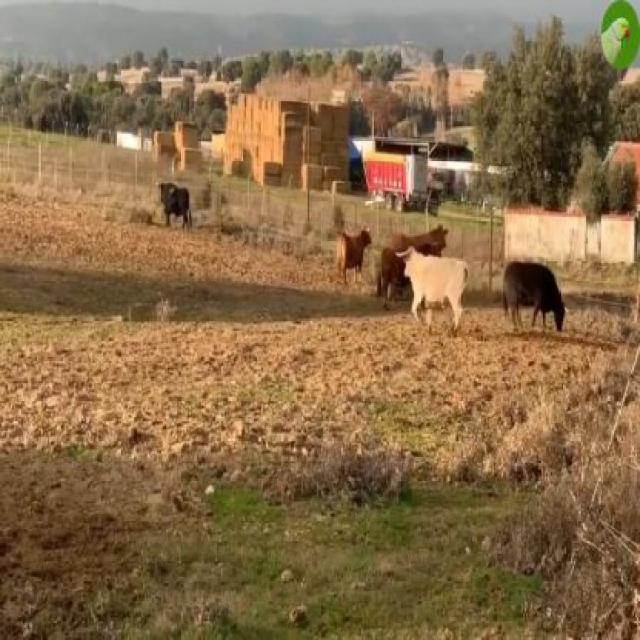Cow: (397, 244, 469, 336), (502, 263, 569, 337)
